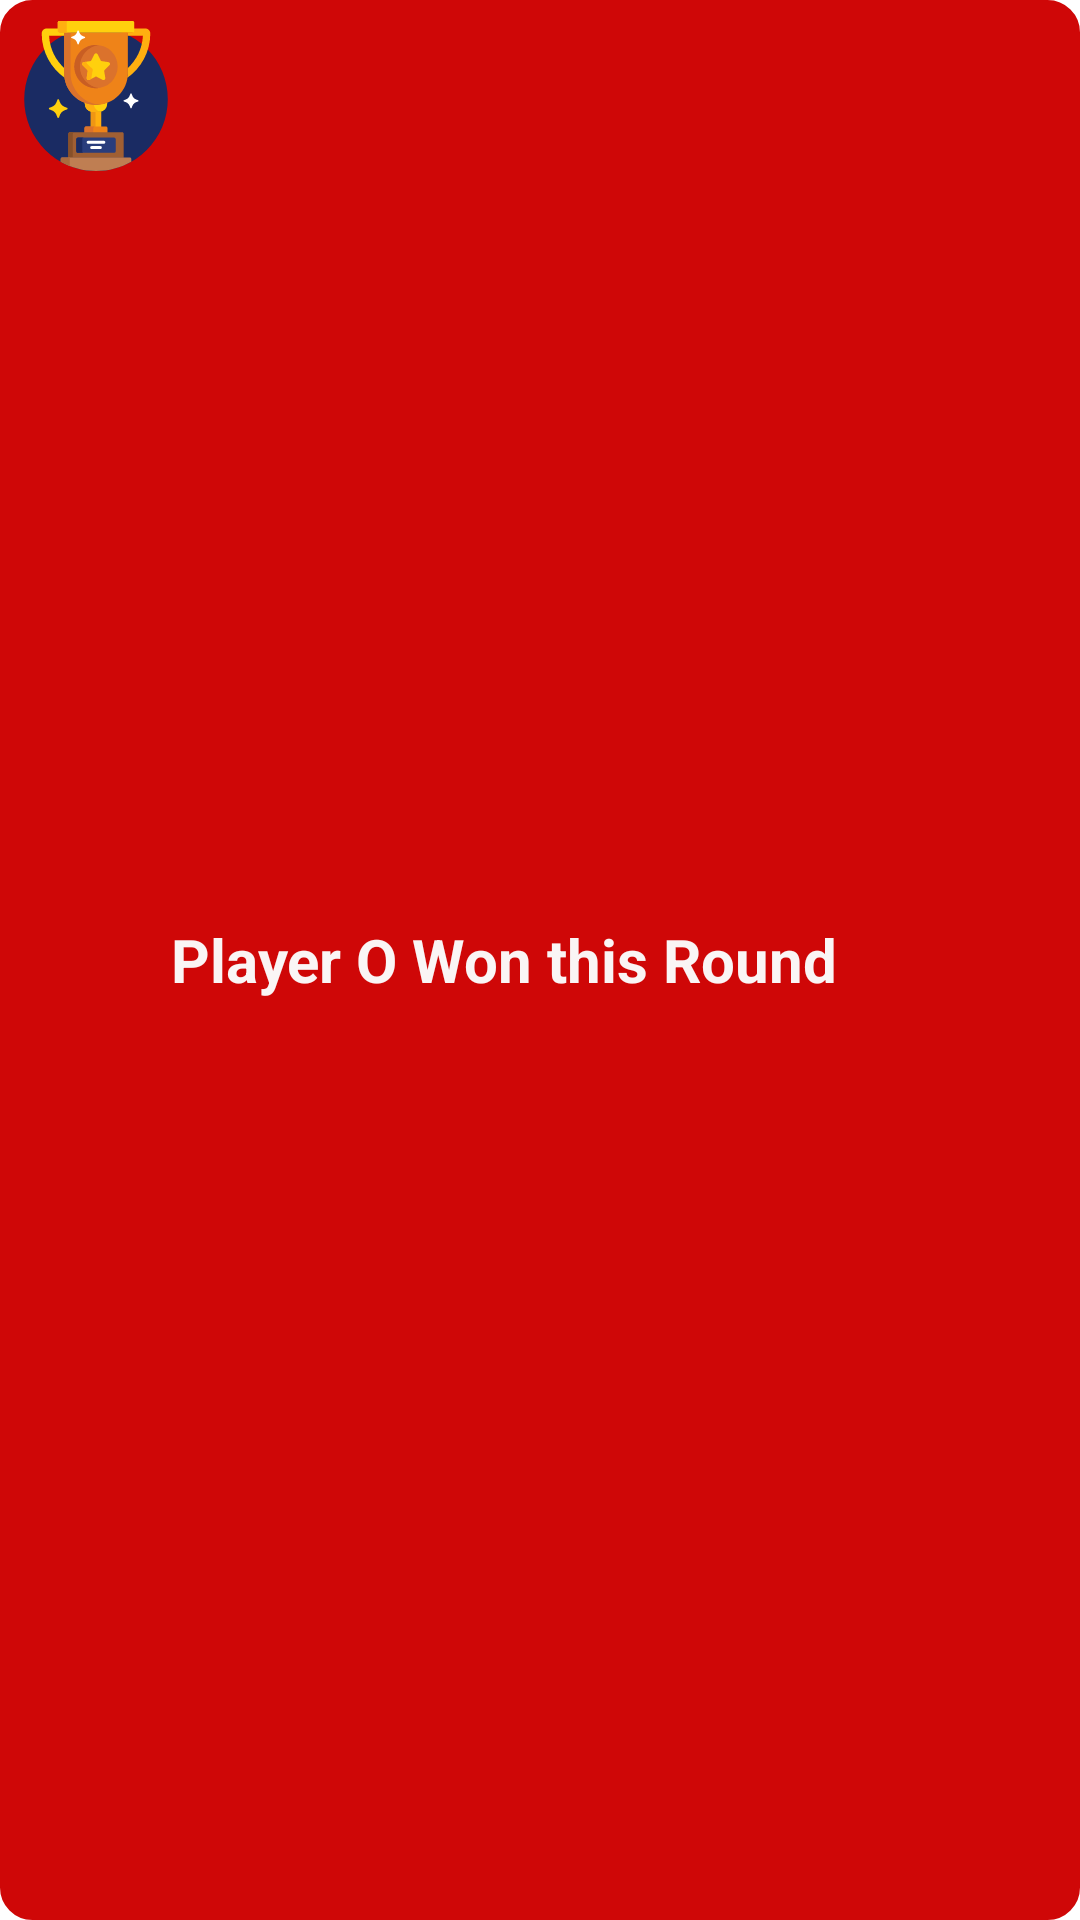

Point at icon controls on the screen. Image size 1080*1920, points as [x,y].
trophy: [96,96]
